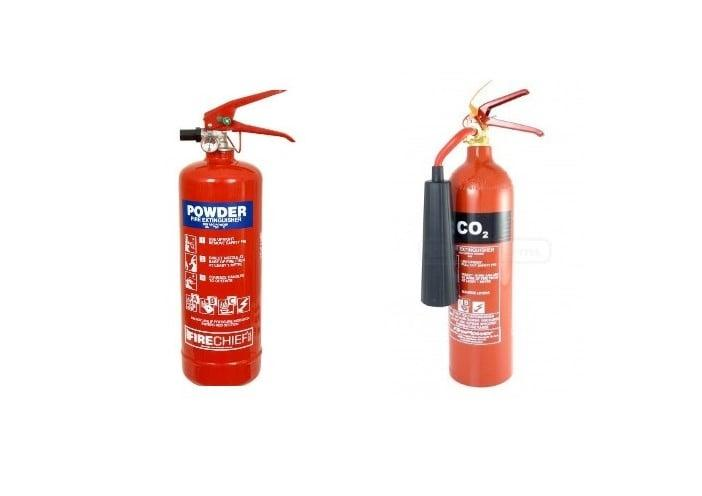Fire Extinguisher: (414, 70, 556, 397), (167, 66, 297, 397)
